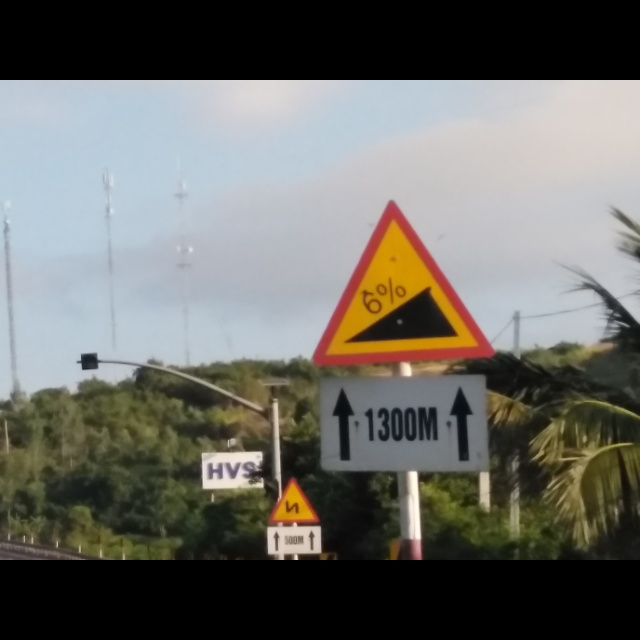Dốc lên nguy hiểm: (307, 194, 493, 366)
Ngoặt nguy hiểm liên tiếp bên phải: (266, 472, 318, 526)
